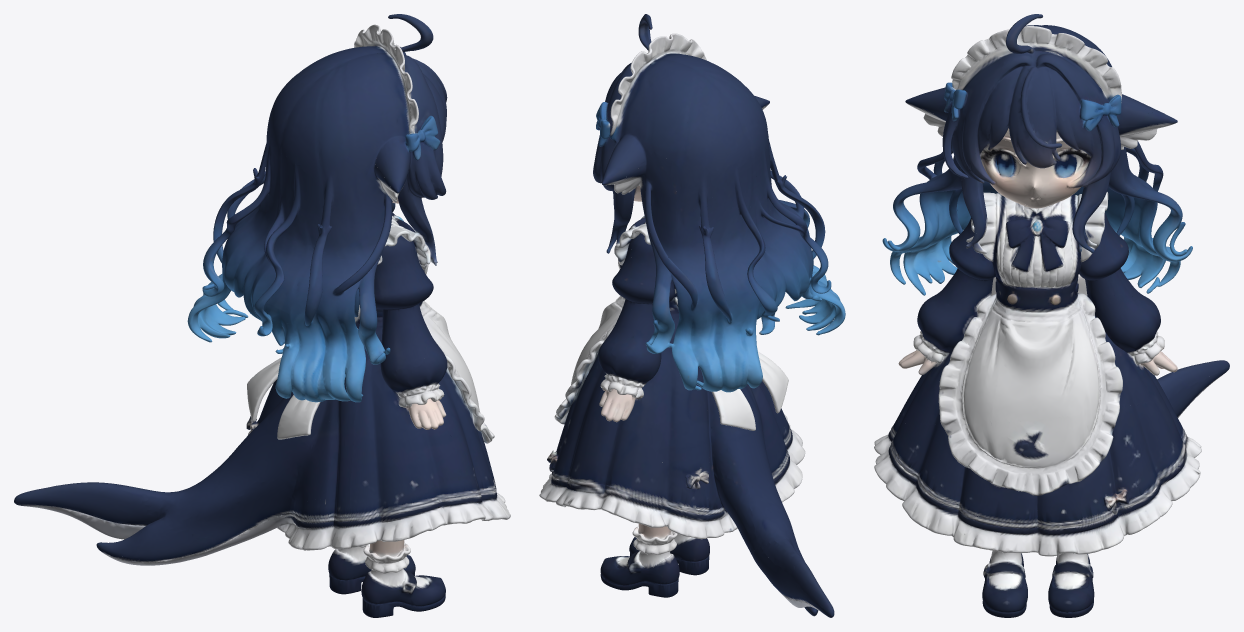
Rendered from deepseek_maid.glb.
3 views of the same model, side by side, from view 1: azimuth 30°, elevation 25°; view 2: azimuth 150°, elevation 25°; view 3: azimuth 270°, elevation 25° (orthographic). The views are drawn at different scales.
Visible parts, largest first — view 1: Lilith; view 2: Lilith; view 3: Lilith.
Boxes of the visible parts, x1=… form: Lilith: x1=14, y1=14, x2=510, y2=617; Lilith: x1=539, y1=14, x2=845, y2=617; Lilith: x1=874, y1=14, x2=1229, y2=617.
Bounding box in the file's own units: 0.6627 × 0.98 × 0.5354.
1 material, 1 textured.
